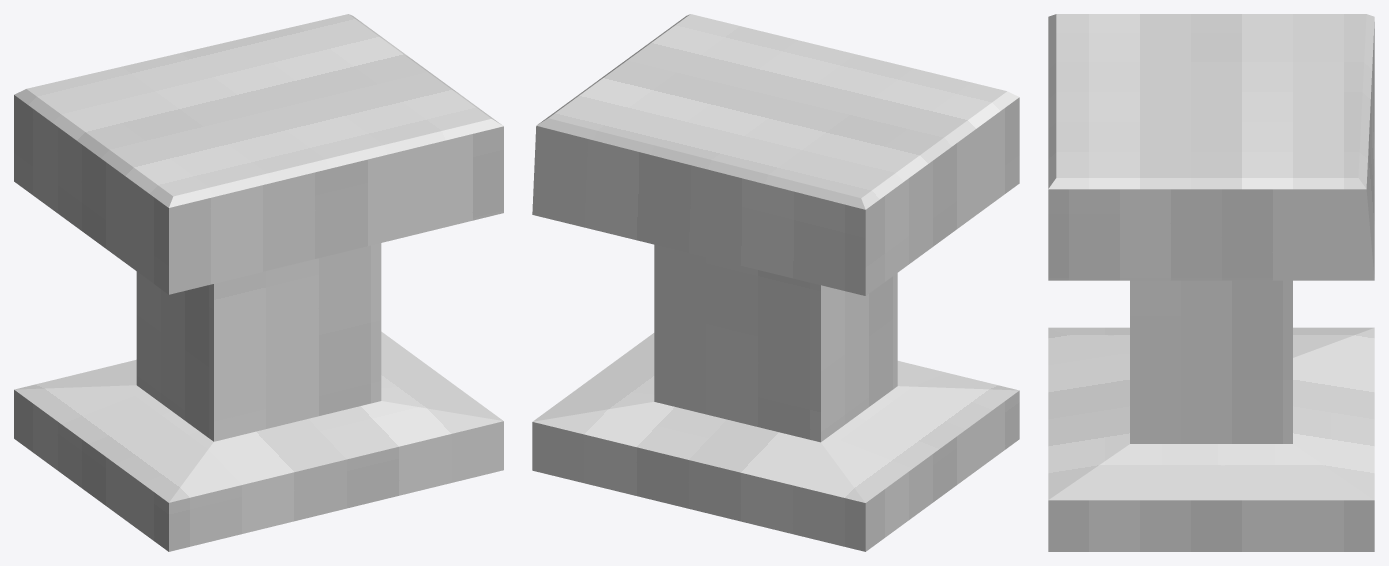
The model's file is blockmodel.obj.
3 renders of one model, left to right at view 1: azimuth 30°, elevation 25°; view 2: azimuth 150°, elevation 25°; view 3: azimuth 270°, elevation 25°, orthographic. The views are drawn at different scales.
Parts seen in each view (by area): view 1: Anvil, Bottom; view 2: Anvil, Bottom; view 3: Anvil, Bottom.
Boxes of the visible parts, left/top/right/bottom form: Anvil: left=14, top=14, right=503, bottom=294; Bottom: left=14, top=243, right=503, bottom=551; Anvil: left=532, top=14, right=1019, bottom=295; Bottom: left=532, top=244, right=1019, bottom=551; Anvil: left=1048, top=14, right=1374, bottom=280; Bottom: left=1048, top=280, right=1374, bottom=551.
Bounding box in the file's own units: 1 × 1 × 0.8.
